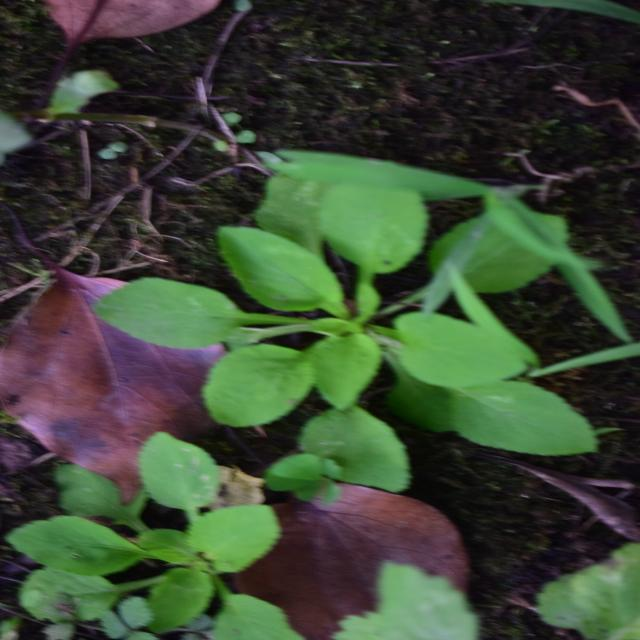Viola: (221, 145, 447, 528), (22, 31, 186, 292)
